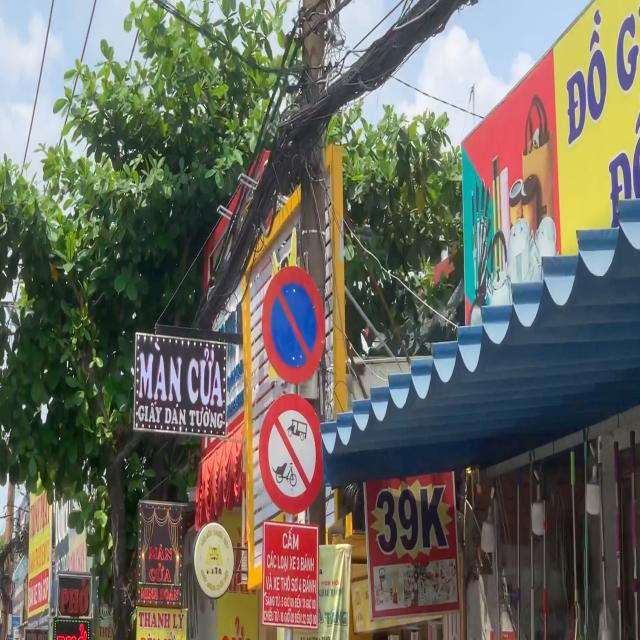Cam con lai: (258, 390, 326, 517)
Cam do: (262, 264, 326, 385)
